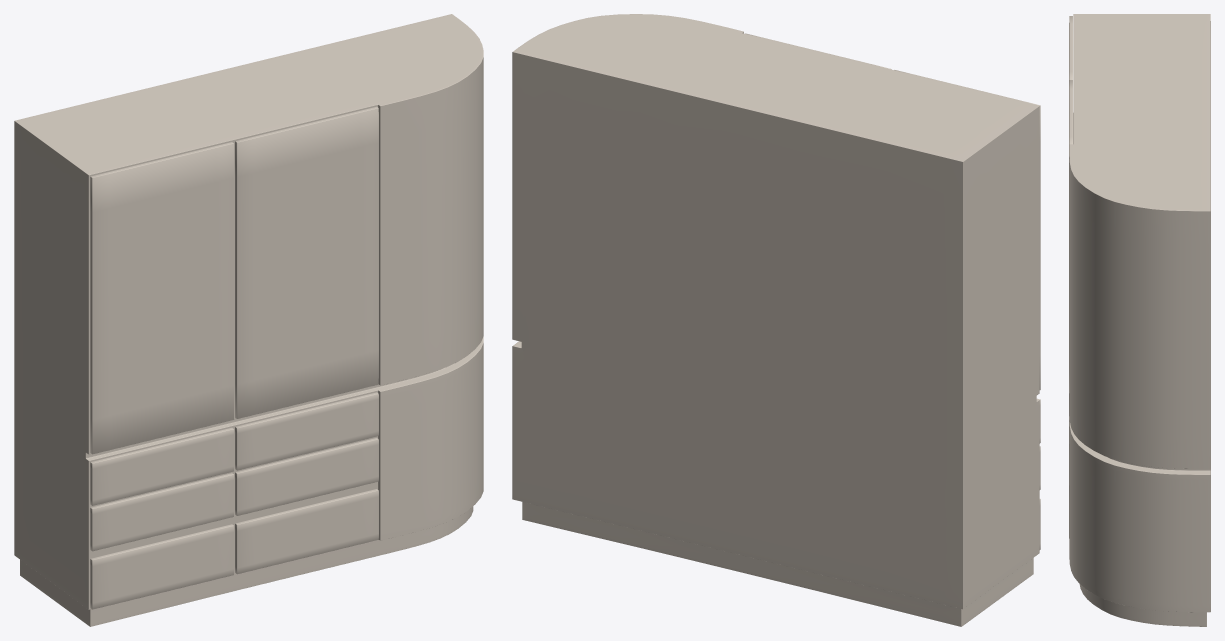
Rendered from Wardobe.glb.
3 views of the same model, side by side, from view 1: azimuth 30°, elevation 25°; view 2: azimuth 150°, elevation 25°; view 3: azimuth 270°, elevation 25° (orthographic). The views are drawn at different scales.
Visible parts, largest first — view 1: Wardrobe 011-002; view 2: Wardrobe 011-002; view 3: Wardrobe 011-002.
Part boxes in pixels (x1,y1,x2,y2): Wardrobe 011-002: (14,14,483,626); Wardrobe 011-002: (512,14,1040,626); Wardrobe 011-002: (1069,14,1210,626).
Bounding box in the file's own units: 2.18 × 2.16 × 0.6627.
